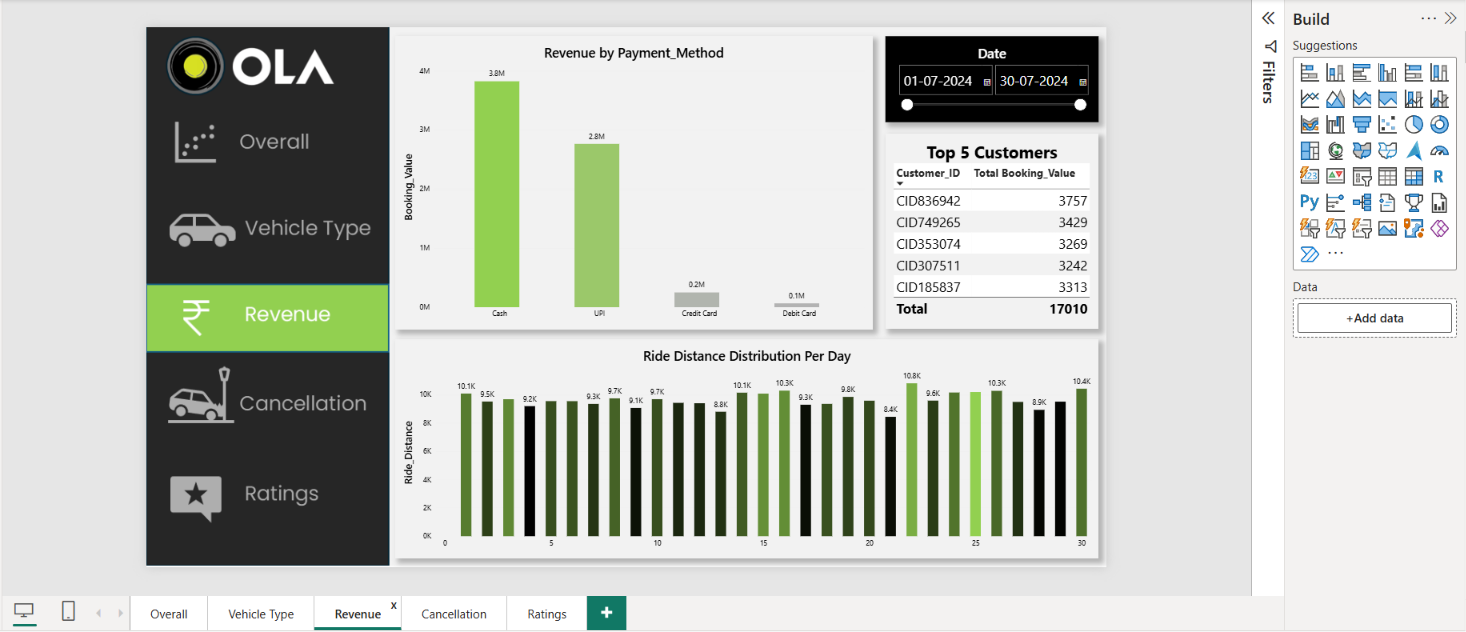

This screenshot's page, from the dashboard's own definition file:
{"tool":"powerbi","page":{"name":"Revenue","canvas":[1920,1080],"ordinal":2},"visuals":[{"type":"actionButton","box":[0,671.4,483.2,144.8],"z":0},{"type":"actionButton","box":[0,340.2,483.2,133.9],"z":1000},{"type":"actionButton","box":[0,170.1,483.2,133.9],"z":2000},{"type":"actionButton","box":[0,872.3,483.2,133.9],"z":3000},{"type":"columnChart","title":"Revenue by Payment_Method","fields":{"Category":["Bookings.Payment_Method"],"Y":["Sum(Bookings.Booking_Value)"]},"box":[498,18,954,586],"z":4000},{"type":"columnChart","title":"Ride Distance Distribution Per Day","fields":{"Category":["Bookings.Date.Variation.Date Hierarchy.Day"],"Y":["Sum(Bookings.Ride_Distance)"]},"box":[498,624,1406,438],"z":5000},{"type":"slicer","title":"Date","fields":{"Values":["Bookings.Date"]},"box":[1478,18,426,172],"z":6000},{"type":"tableEx","title":"Top 5 Customers","fields":{"Values":["Bookings.Customer_ID","Bookings.Booking_Value"]},"box":[1478,212,426,392],"z":7000}]}

Visuals, with their boxes on the page's 1920x1080 design canvas (x1, y1, x2, y2). These are canvas units, not pixel positions in the 1466x632 screenshot, which may show the page scaled, cropped or inside an application window:
actionButton: 0, 671, 483, 816
actionButton: 0, 340, 483, 474
actionButton: 0, 170, 483, 304
actionButton: 0, 872, 483, 1006
"Revenue by Payment_Method" columnChart: 498, 18, 1452, 604
"Ride Distance Distribution Per Day" columnChart: 498, 624, 1904, 1062
"Date" slicer: 1478, 18, 1904, 190
"Top 5 Customers" tableEx: 1478, 212, 1904, 604
